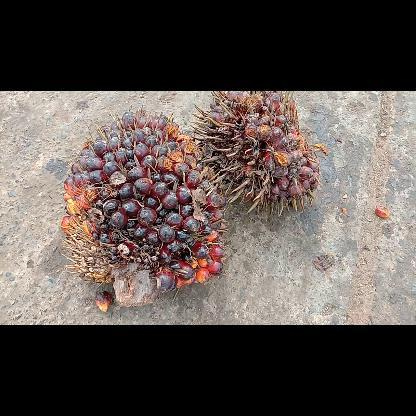Kurang masak: (59, 102, 229, 304)
TBS masak: (191, 91, 321, 216)
